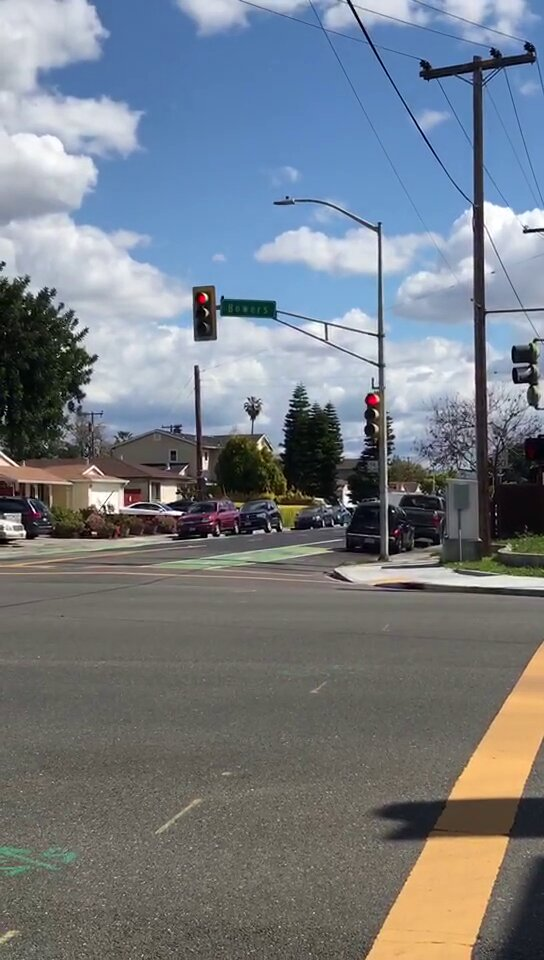red_light: (366, 392, 385, 434)
